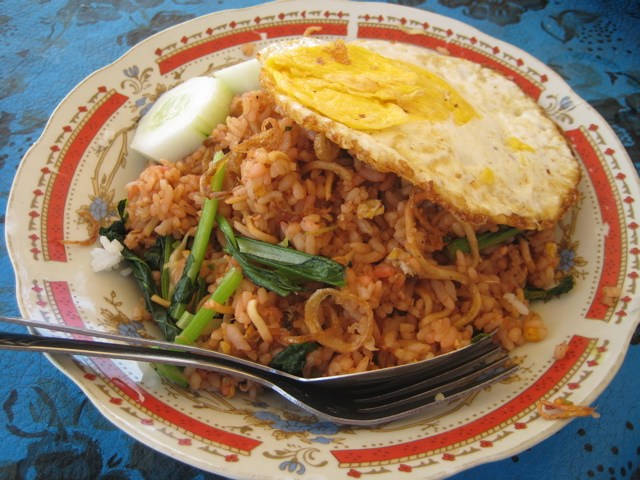Nasi Goreng: (102, 23, 534, 417)
